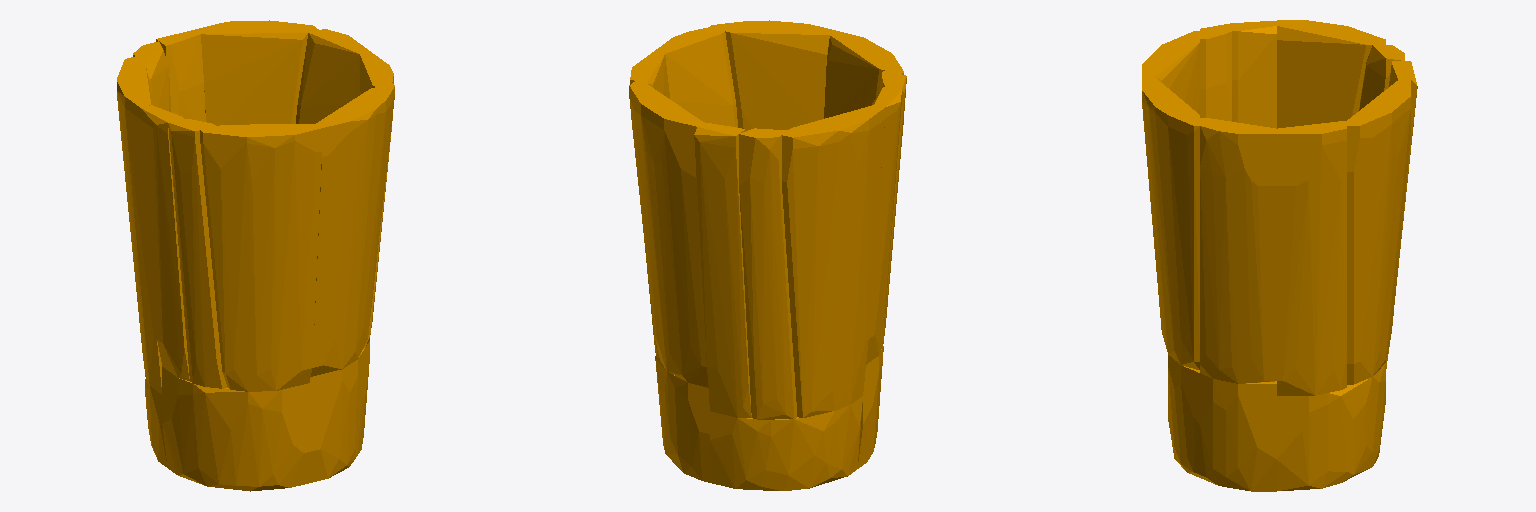
The robot description file, URDF, robot "bullet_cup":
<robot name="bullet_cup">
  <link name="base">
    <visual><geometry><mesh filename="bullet_cup.normalized.obj"/></geometry></visual>
    <collision><geometry><mesh filename="bullet_cup.collision_box.obj"/></geometry></collision>
  </link>
</robot>

--- What the picture shows (computed from the rendered views, not written in the file) ---
3 views of the same robot in one strip: view 1: azimuth 30°, elevation 25°; view 2: azimuth 150°, elevation 25°; view 3: azimuth 270°, elevation 25° (orthographic).
Model bullet_cup with 1 links and 0 joints (none), rooted at base, posed every joint at zero.
Visible links, largest first — view 1: base; view 2: base; view 3: base.
Boxes of the visible links, x1,y1,x2,y2 form: base: [117, 20, 394, 491]; base: [629, 20, 906, 490]; base: [1142, 20, 1417, 491].
Size in the robot's own frame: 0.6562 by 0.6719 by 1 metres.
Meshes: 1 distinct files referenced, 1 mesh visuals loaded (1 OBJ).
